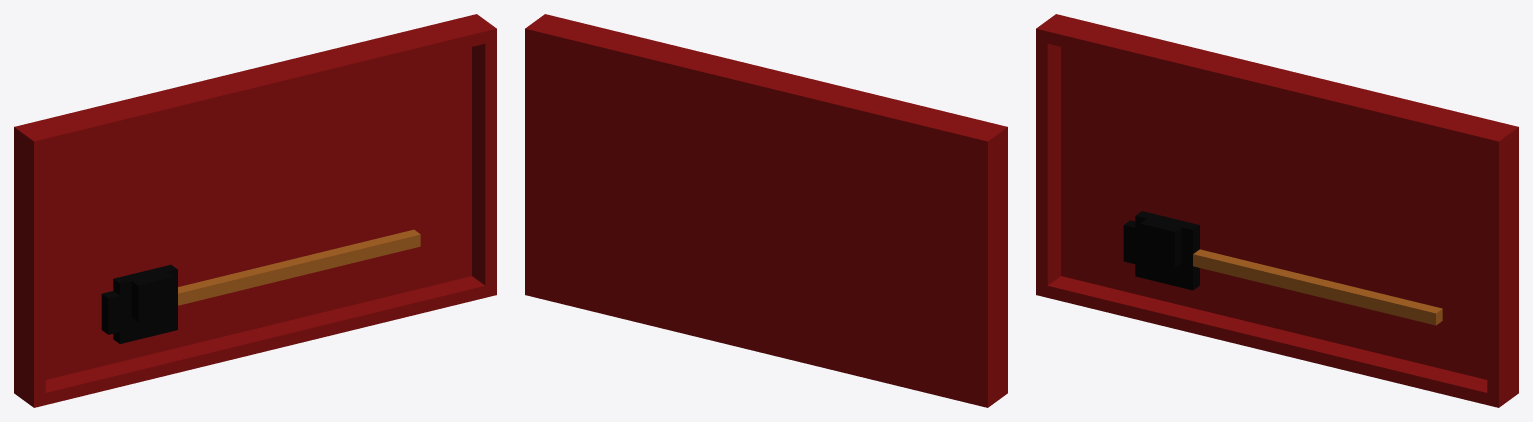
Rendered from Fire shield.obj.
3 views of the same model, side by side, from view 1: azimuth 30°, elevation 25°; view 2: azimuth 150°, elevation 25°; view 3: azimuth 330°, elevation 25° (orthographic).
Size of the model in its own units: 4 by 2.2 by 0.3.
1 material, 1 textured.
